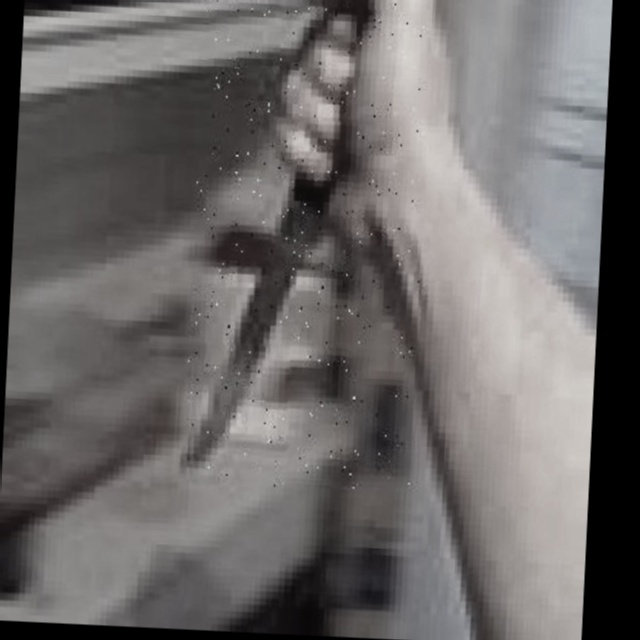Sharp-Object: (182, 0, 435, 493)
